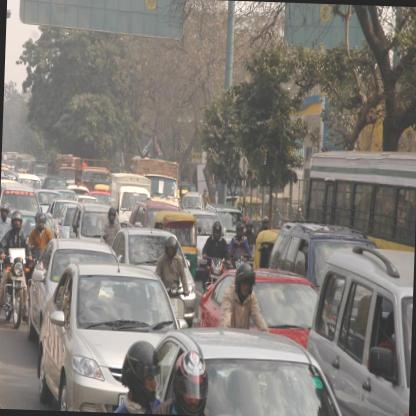bus: (301, 150, 415, 288)
car: (39, 262, 183, 414), (304, 247, 415, 415), (154, 328, 366, 415), (197, 266, 321, 352), (27, 238, 120, 343), (107, 228, 198, 322), (272, 225, 393, 295), (0, 181, 43, 233)
motorcycle: (154, 236, 192, 334), (0, 211, 30, 333), (201, 219, 229, 292)
truck: (132, 154, 182, 208)
